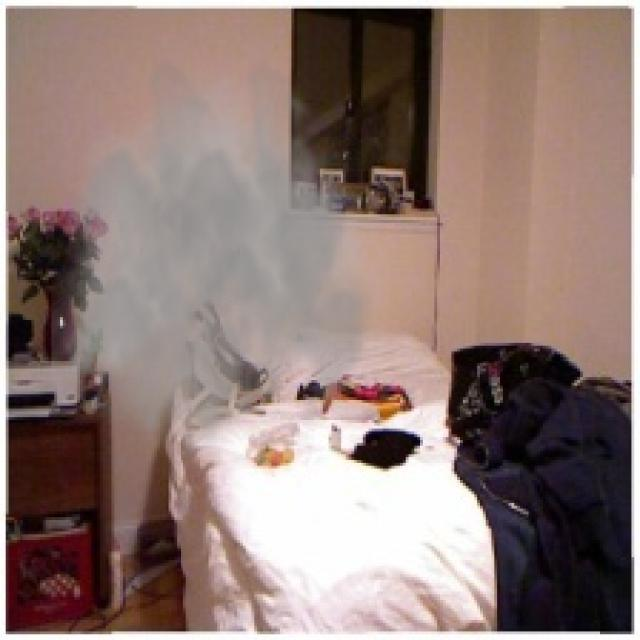Smoke: (51, 54, 400, 466)
